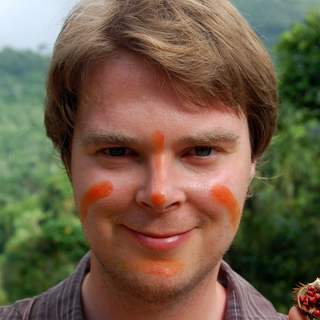eye: (90, 141, 143, 165), (173, 142, 229, 163)
